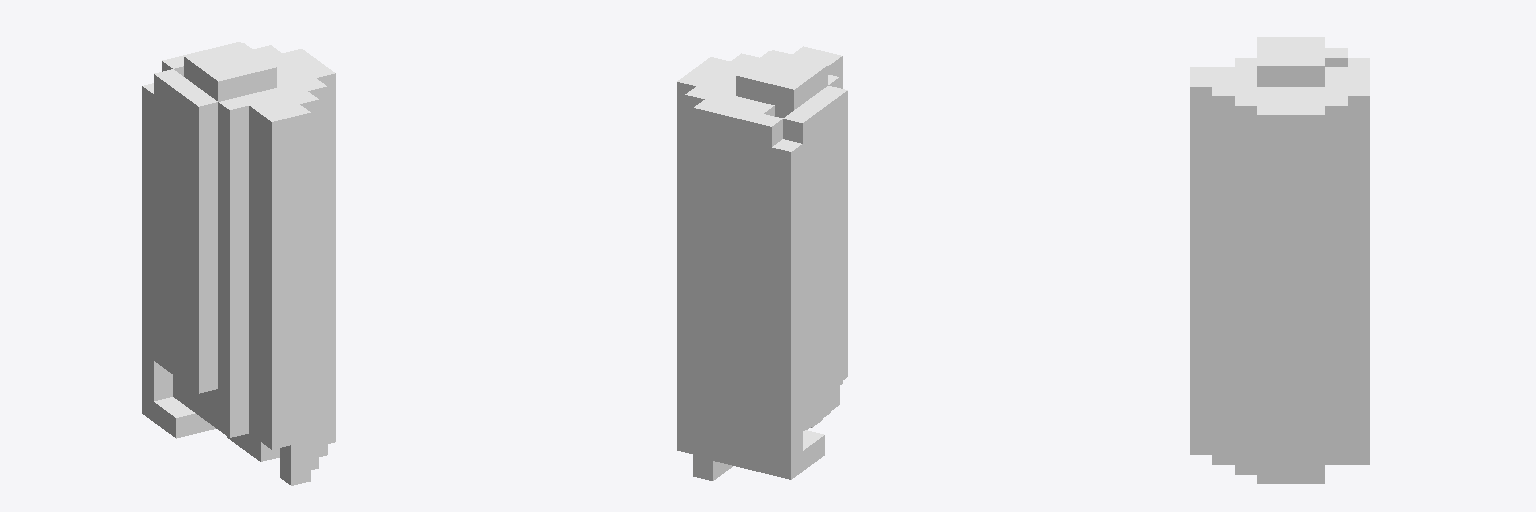
File: pers-4.obj
The picture shows the model from 3 angles: view 1: azimuth 30°, elevation 25°; view 2: azimuth 150°, elevation 25°; view 3: azimuth 270°, elevation 25°; orthographic projection.
Parts seen in each view (by area): view 1: object 1; view 2: object 1; view 3: object 1.
Boxes of the visible parts, <box> form: object 1: <box>142,42,335,485</box>; object 1: <box>677,46,847,480</box>; object 1: <box>1190,37,1369,483</box>.
Size of the model in its own units: 0.7 by 1.9 by 0.8.